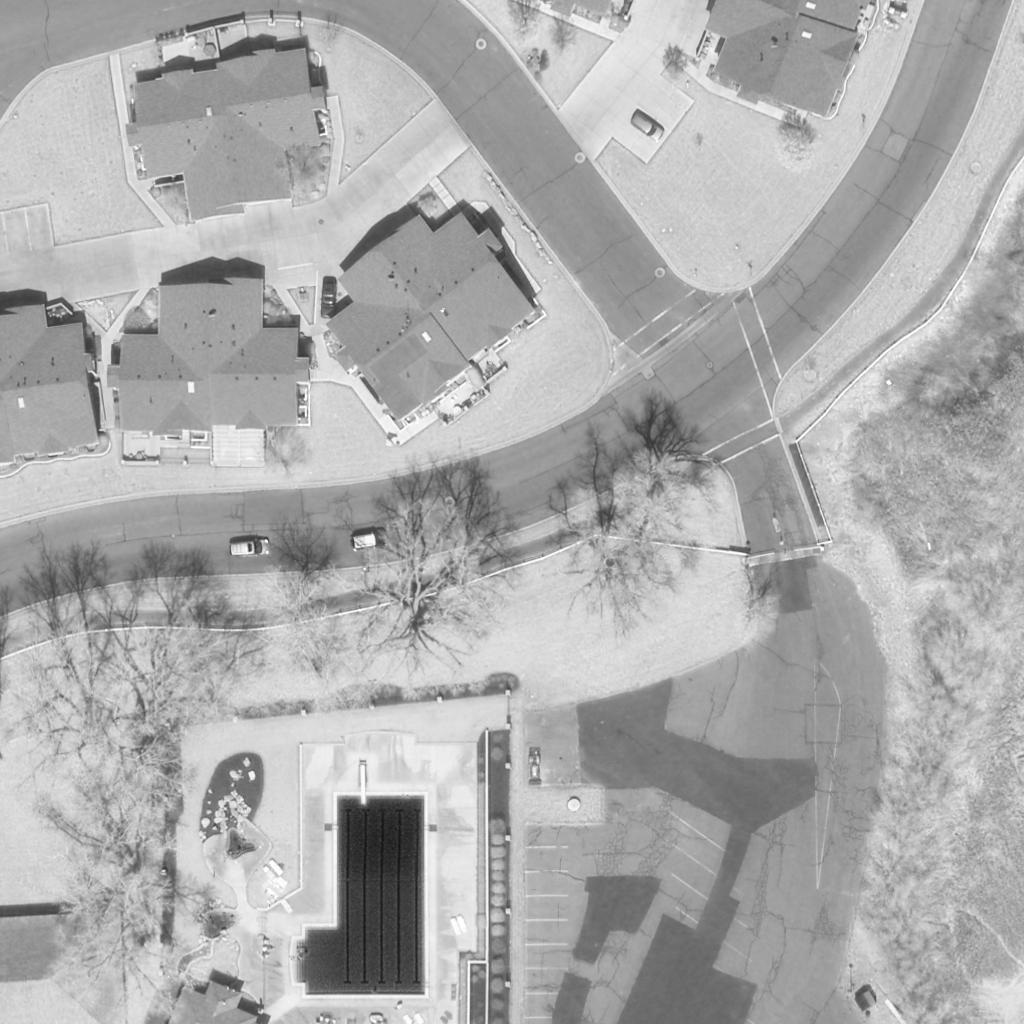vehicle: (628, 108, 668, 144), (227, 537, 273, 557), (348, 532, 390, 550)
